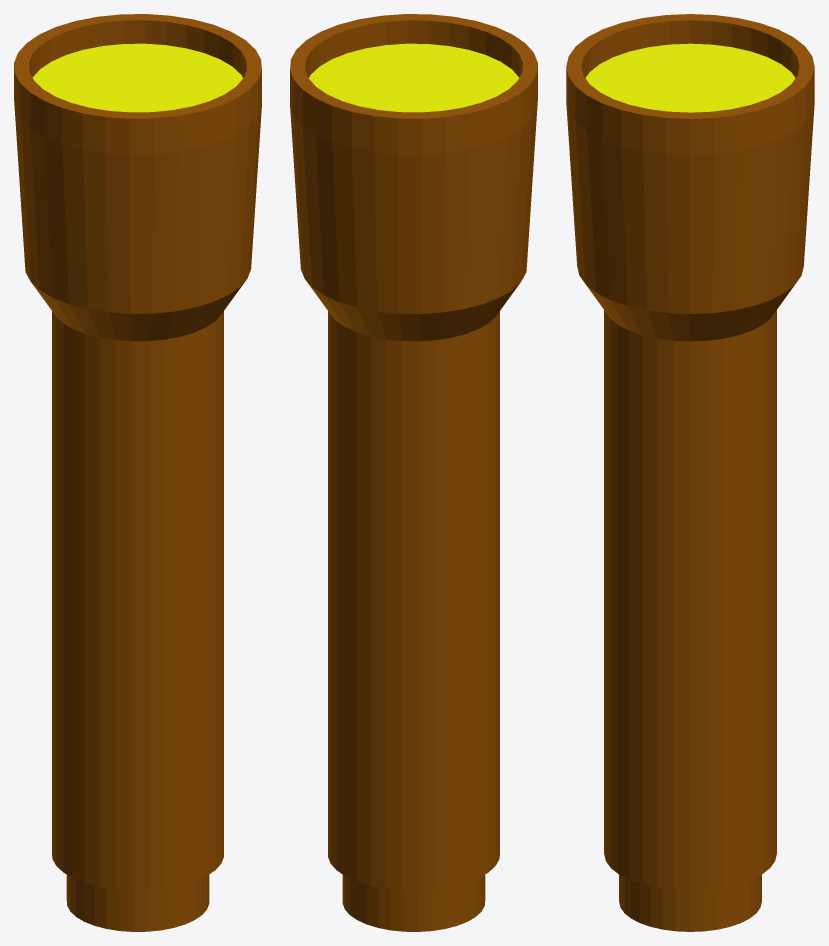
The model's file is FlashLight.fbx.
3 renders of one model, left to right at view 1: azimuth 30°, elevation 25°; view 2: azimuth 150°, elevation 25°; view 3: azimuth 270°, elevation 25°, orthographic.
Parts seen in each view (by area): view 1: Cylinder; view 2: Cylinder; view 3: Cylinder.
Part boxes in pixels (left/top/right/bottom): Cylinder: left=14, top=14, right=261, bottom=931; Cylinder: left=290, top=14, right=537, bottom=931; Cylinder: left=566, top=14, right=814, bottom=931.
Bounding box in the file's own units: 24.6 × 91.28 × 24.6.
